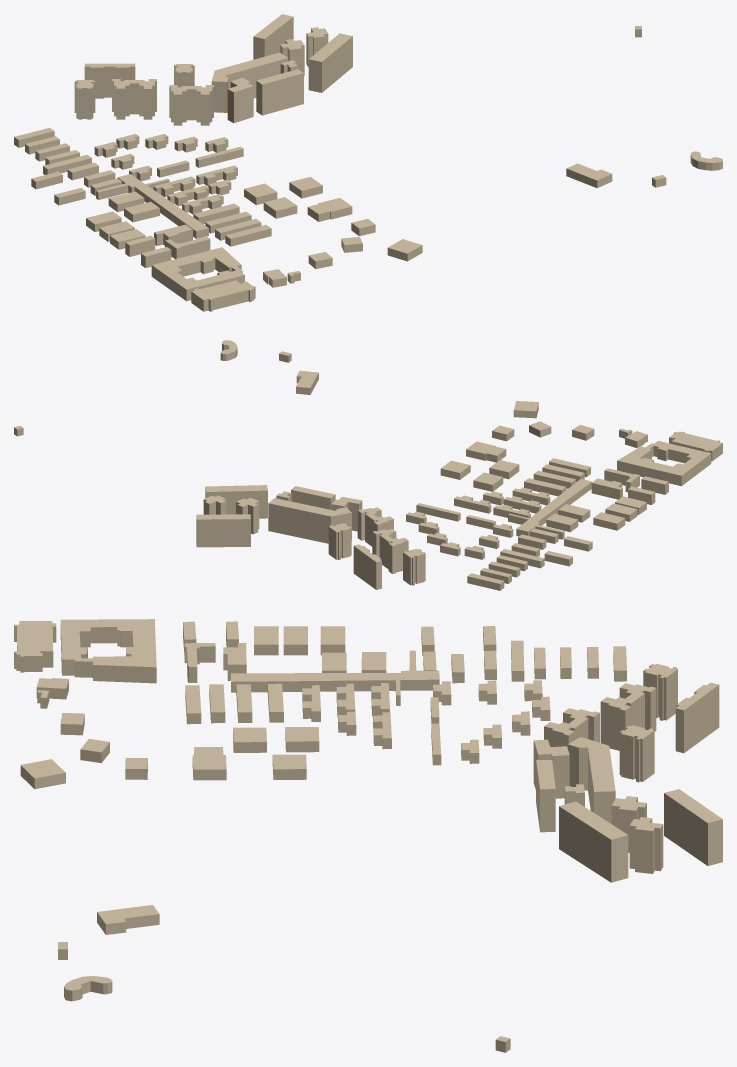
Rendered from 11_5-estimated-coarse.glb.
3 views of the same model, one above another, from view 1: azimuth 30°, elevation 25°; view 2: azimuth 150°, elevation 25°; view 3: azimuth 270°, elevation 25° (orthographic). The views are drawn at different scales.
Size of the model in its own units: 1001 by 48 by 718.
